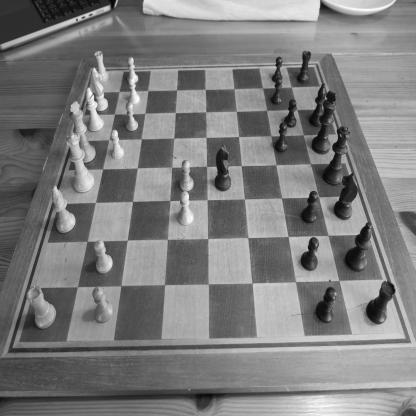black-bishop: (345, 222, 372, 272), (309, 82, 326, 127)
black-king: (312, 90, 338, 154)
black-knight: (334, 172, 358, 220), (214, 144, 232, 191)
black-pawn: (315, 286, 338, 324), (300, 236, 320, 272), (301, 190, 319, 224), (275, 122, 288, 153), (284, 99, 297, 128), (271, 76, 283, 105), (272, 56, 283, 82)
black-queen: (322, 125, 352, 186)
black-rook: (366, 280, 396, 324), (296, 50, 312, 84)
white-bishop: (52, 185, 76, 234), (85, 87, 104, 132)
white-king: (69, 100, 96, 164)
white-knight: (90, 67, 109, 112)
white-pawn: (92, 286, 113, 324), (94, 239, 113, 275), (177, 191, 194, 226), (180, 159, 194, 192), (110, 129, 124, 160), (126, 102, 138, 132), (126, 57, 139, 84), (128, 77, 140, 105)
white-queen: (66, 132, 95, 194)
white-rook: (26, 285, 57, 330), (94, 50, 109, 82)
